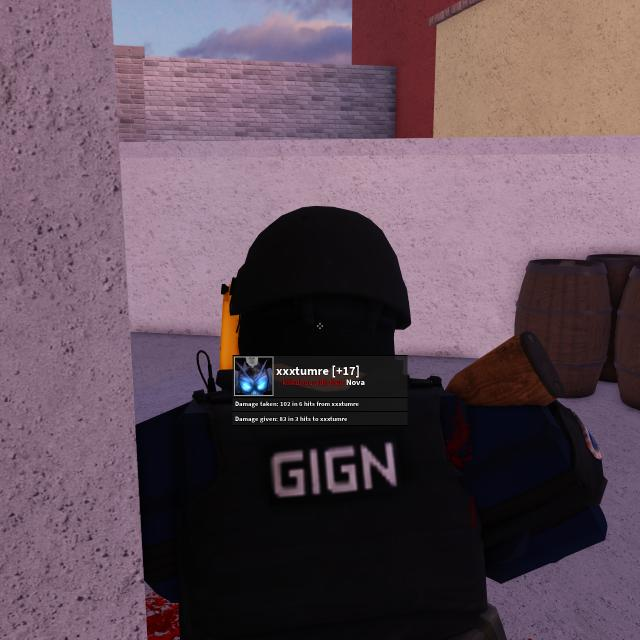Head: (233, 207, 411, 385)
Player: (63, 206, 621, 640)
